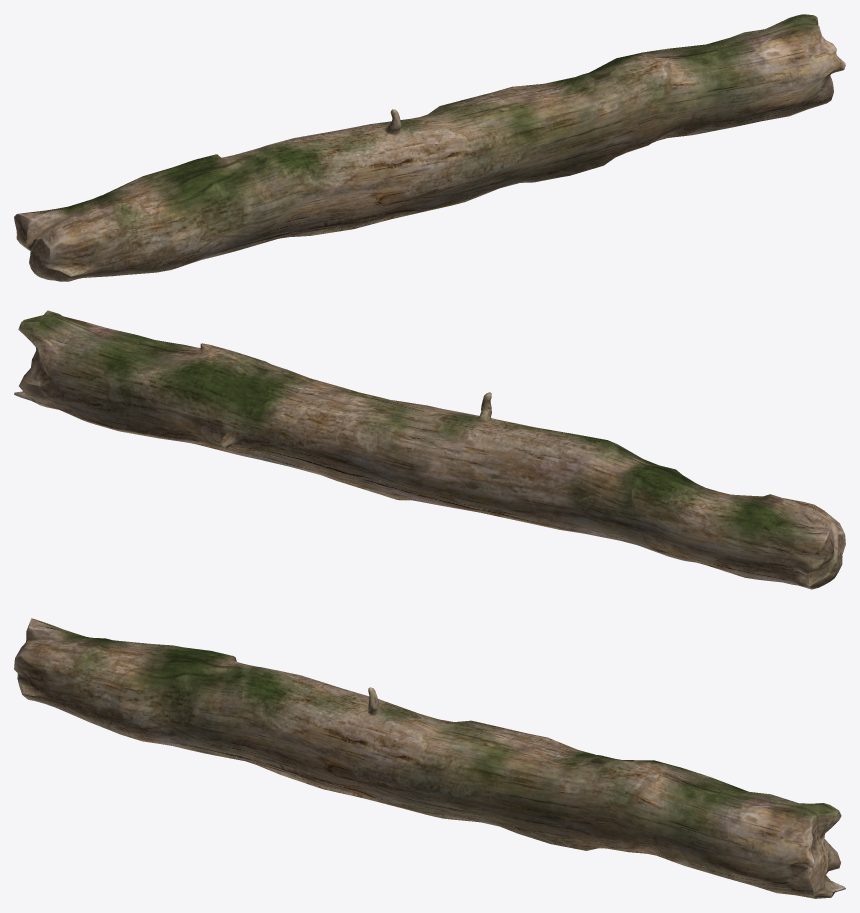
The model's file is PineLog.fbx.
The picture shows the model from 3 angles, top to bottom: view 1: azimuth 30°, elevation 25°; view 2: azimuth 150°, elevation 25°; view 3: azimuth 330°, elevation 25°; orthographic projection. The views are drawn at different scales.
Parts seen in each view (by area): view 1: PineLog_LOD0; view 2: PineLog_LOD0; view 3: PineLog_LOD0.
Part boxes in pixels (box(x1,y1,x2,y2)): PineLog_LOD0: box(14, 14, 845, 281); PineLog_LOD0: box(14, 310, 845, 589); PineLog_LOD0: box(14, 618, 845, 898).
Size of what is drawn, in the model's own units: 10.17 by 1.37 by 1.2.
Materials: 1 (1 with a texture image).
